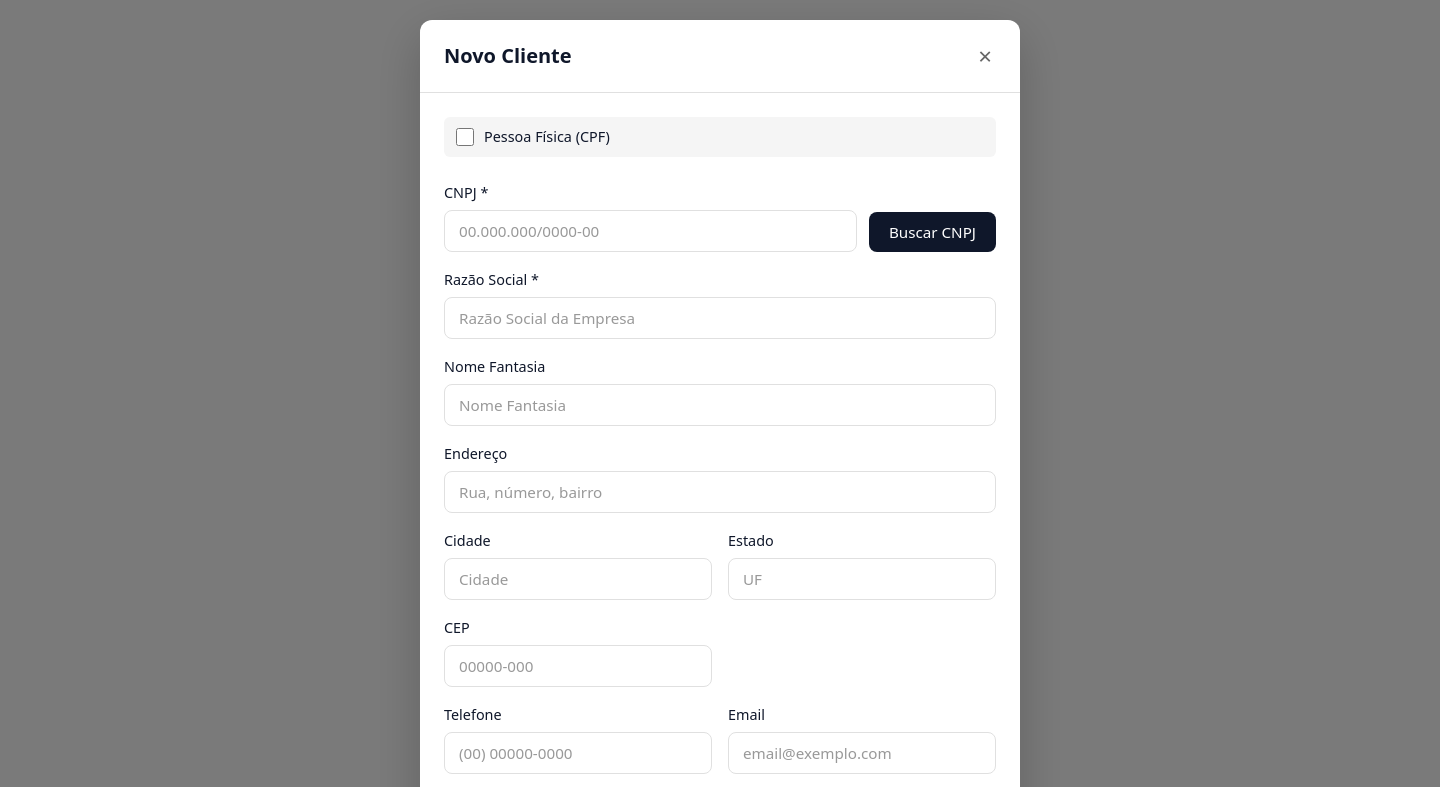
Test case: ClienteModal › deve buscar CNPJ e preencher dados automaticamente
Type "12345678901234" into the field with placeholder "00.000.000/0000-00".
click(650, 231); type("12345678901234")  # box [444,210,857,252]
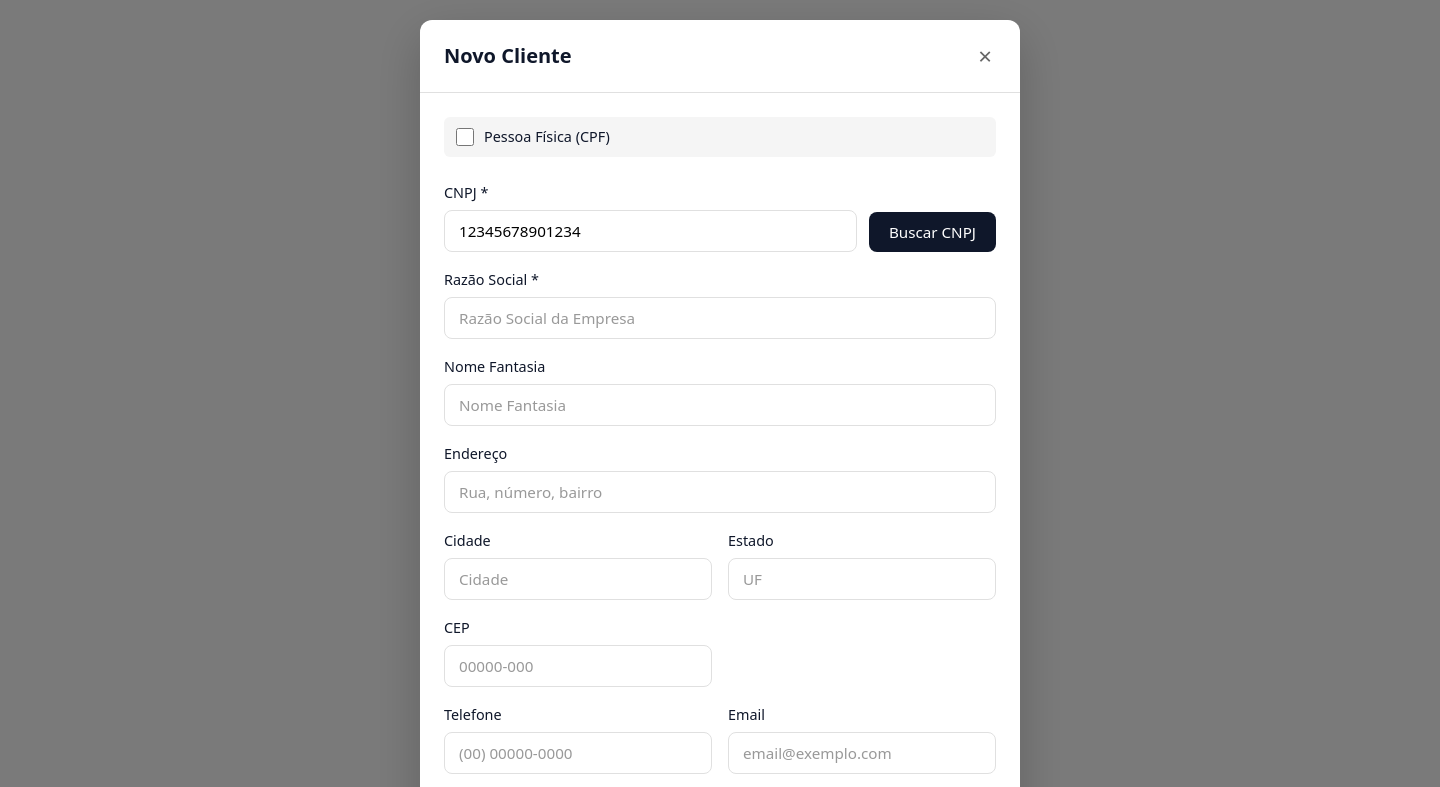
Click the button "Buscar CNPJ".
click(932, 232)  # box [869,212,996,252]
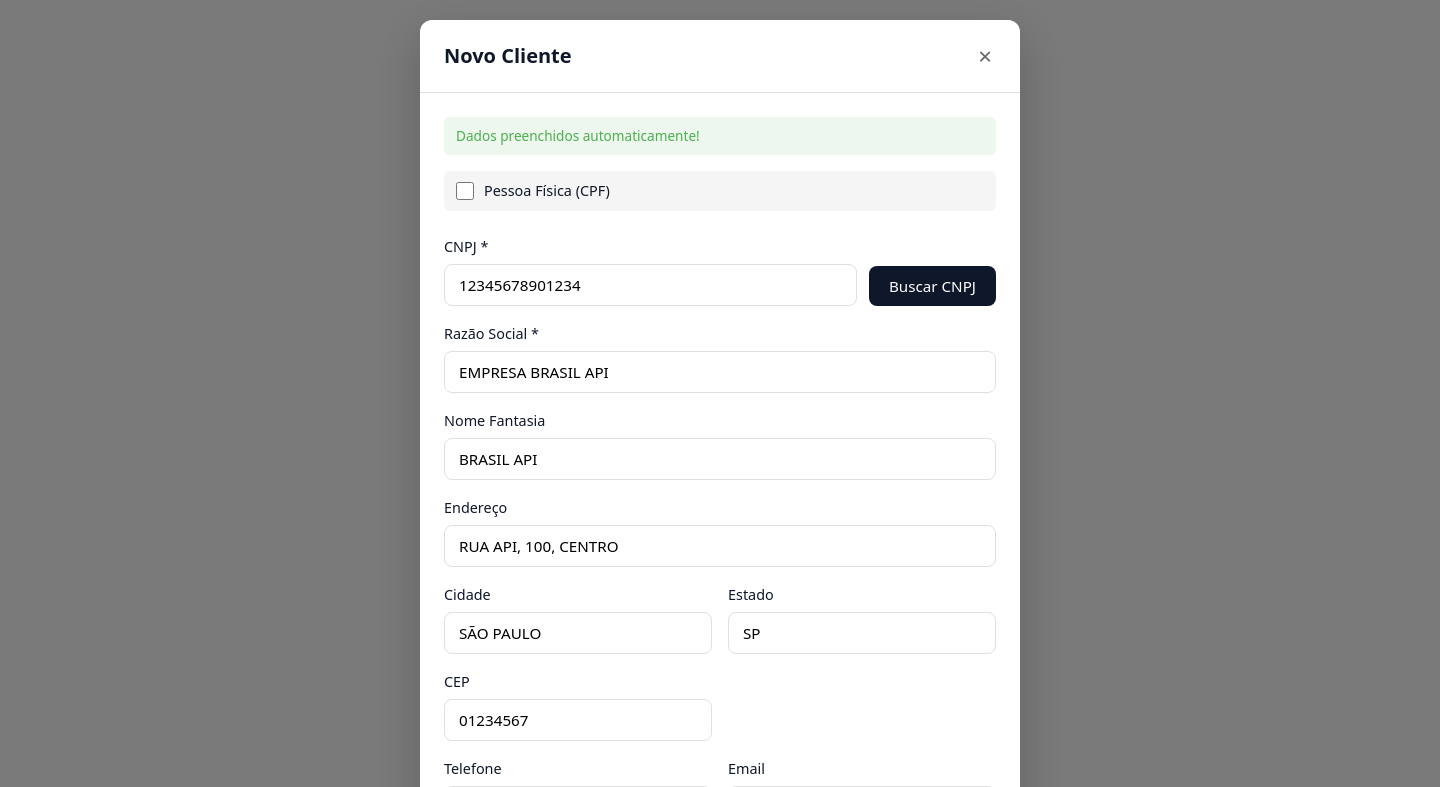
Check: the text "Dados preenchidos automaticamente!" is shown, box [444,117,996,155]
